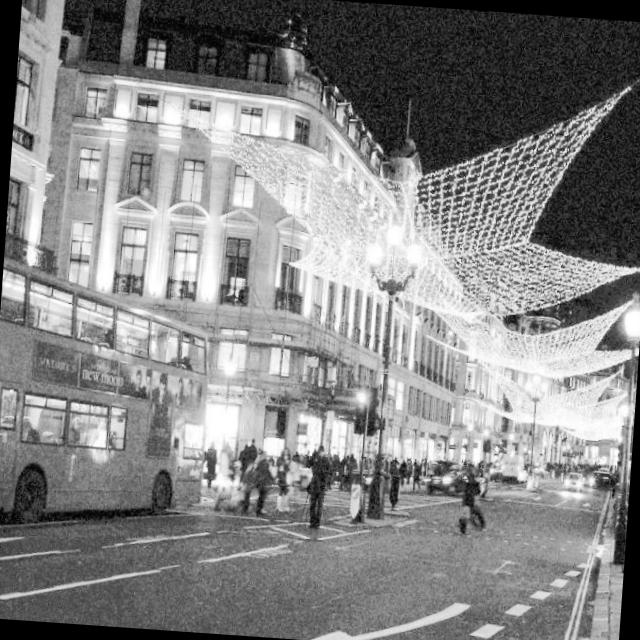Bus: (0, 270, 231, 591)
Car: (488, 432, 537, 496), (410, 448, 464, 505), (555, 462, 608, 520)
